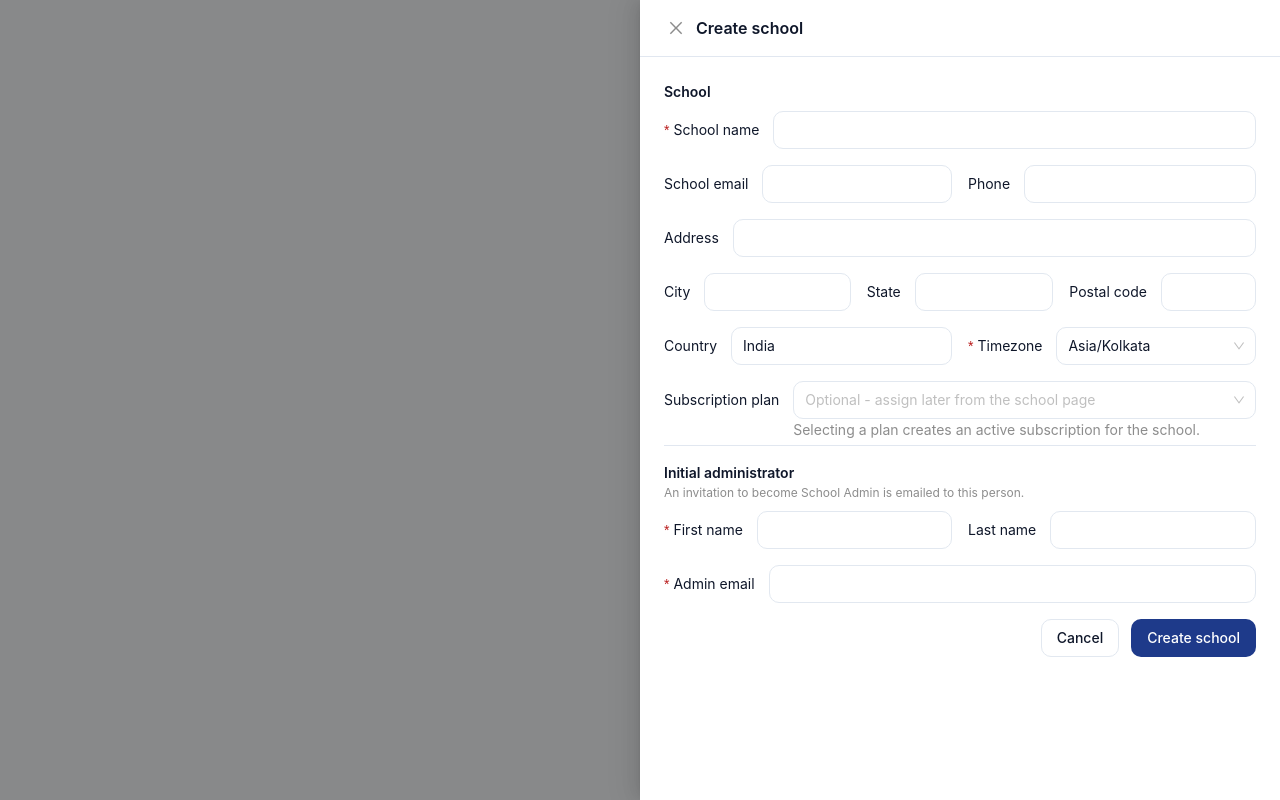
Test: CreateSchoolDrawer › creates the school and shows the admin invitation link
The image size is (1280, 800).
Type "Lakeview High School" into the field labelled "School name" at (1015, 130), box [773, 111, 1256, 149]
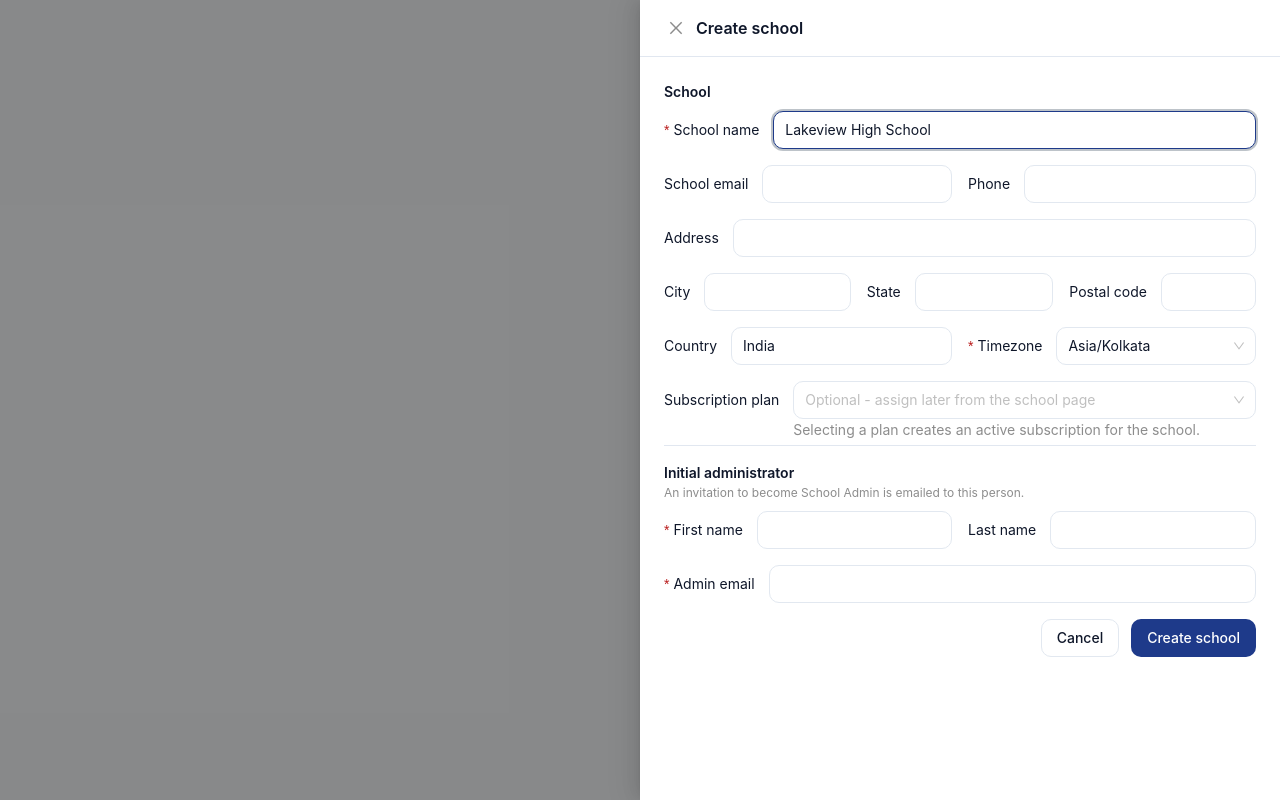
Type "Meenakshi" into the field labelled "First name" at (854, 530), box [757, 511, 952, 549]
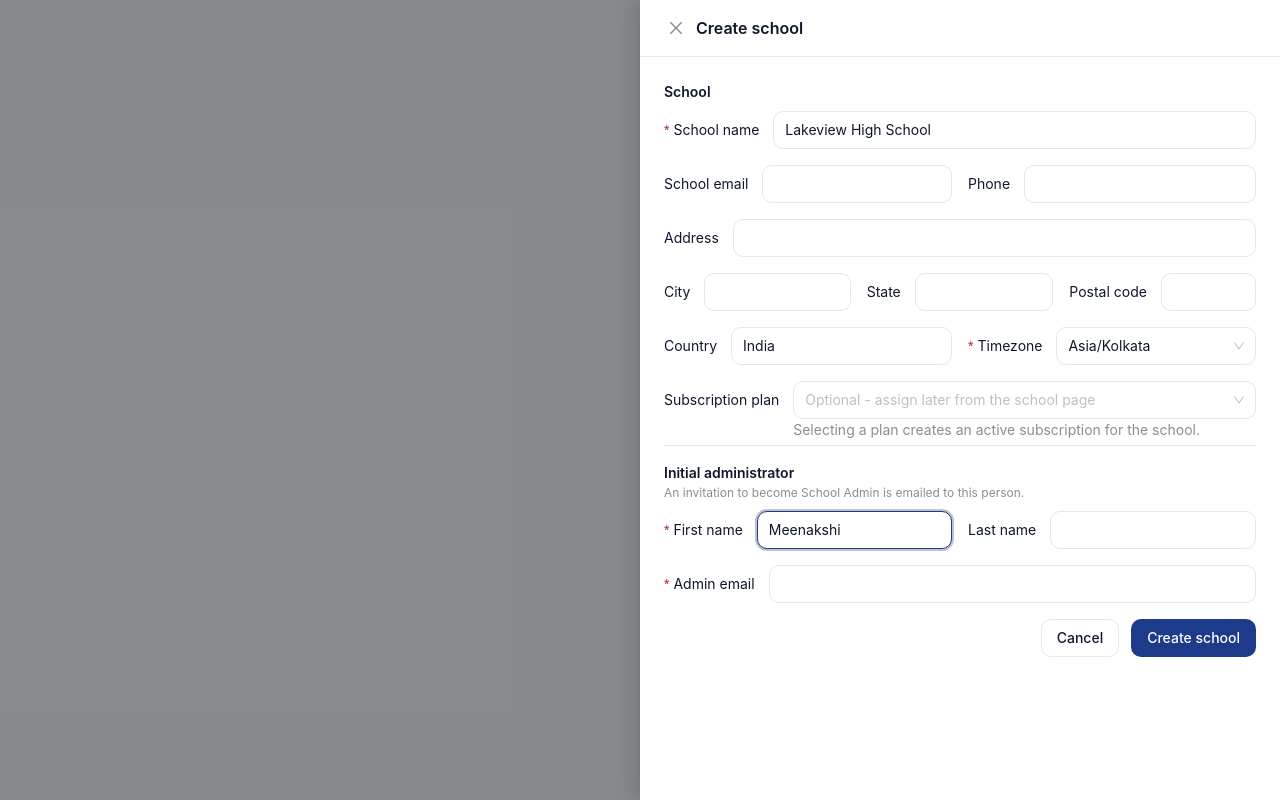
Type "meena@lakeview.demo" into the field labelled "Admin email" at (1012, 584), box [769, 565, 1256, 603]
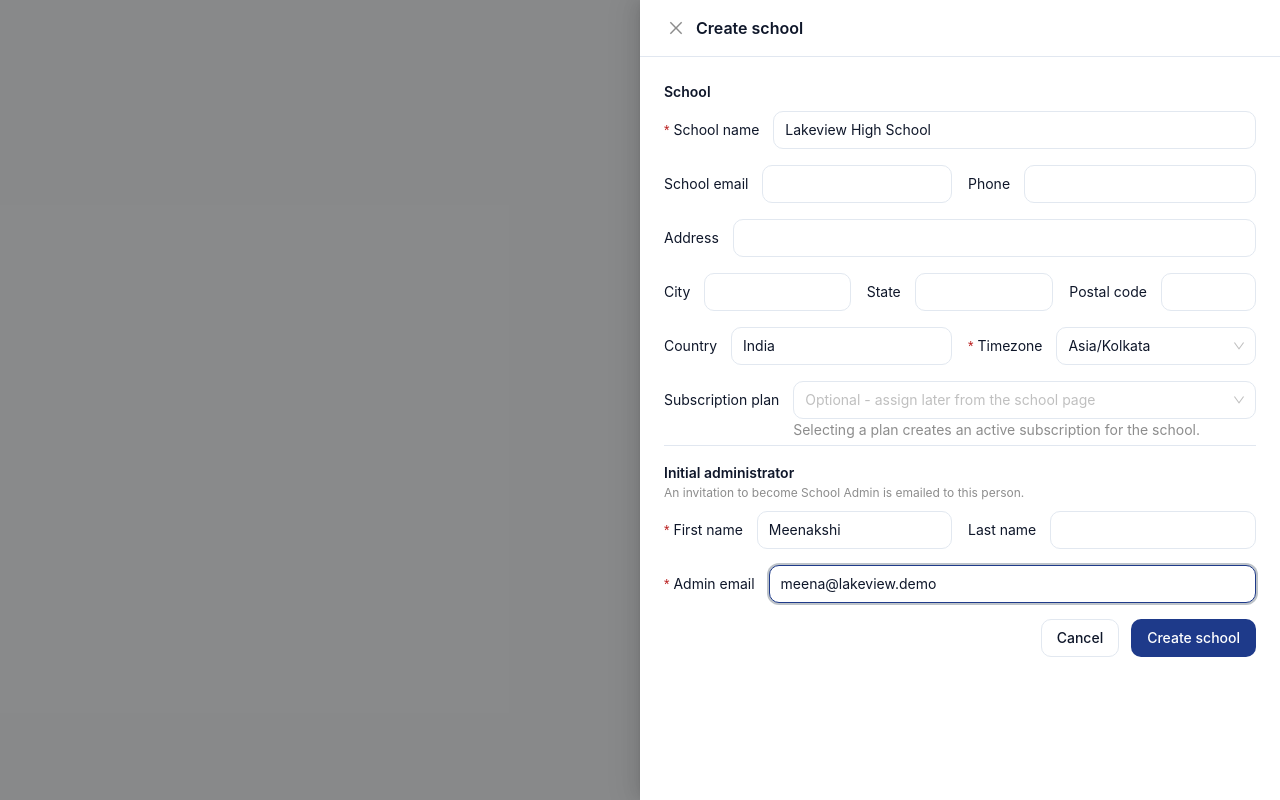
Click the button "Create school" at (1194, 638), box [1131, 619, 1256, 657]
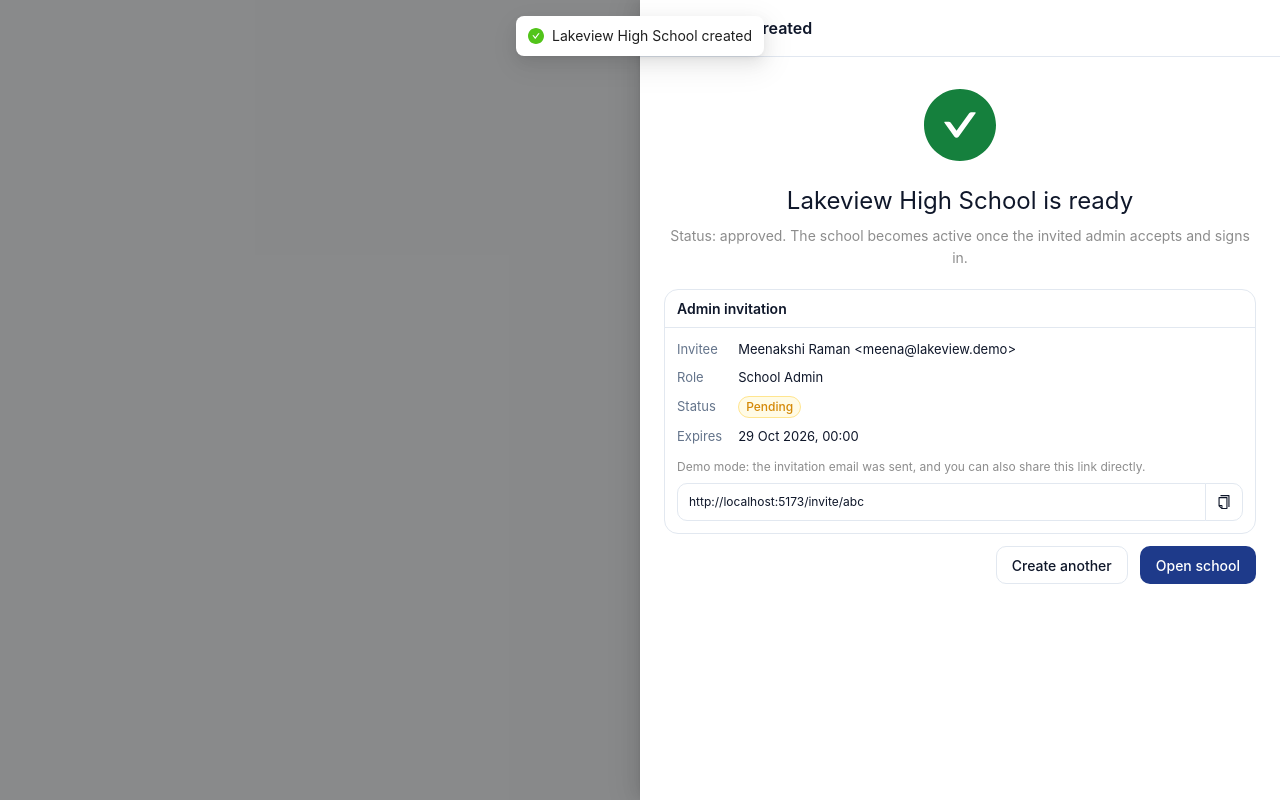
expect the field showing "http://localhost:5173/invite/abc" is shown: met, box [677, 483, 1206, 521]
expect the text "Lakeview High School is ready" is shown: met, box [787, 186, 1133, 215]
